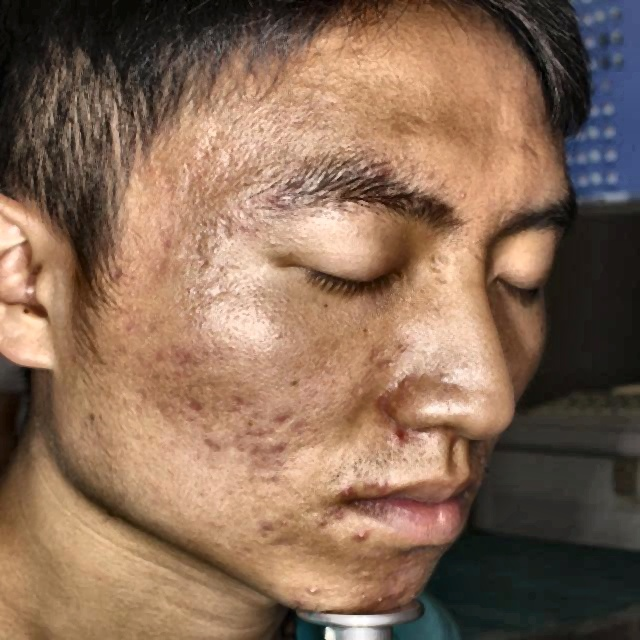pustule: (200, 434, 232, 458), (270, 409, 295, 434), (246, 438, 272, 459), (273, 439, 292, 465), (300, 582, 320, 602), (369, 474, 390, 491), (389, 420, 408, 438), (352, 529, 372, 546), (341, 484, 356, 496), (377, 587, 388, 603)
